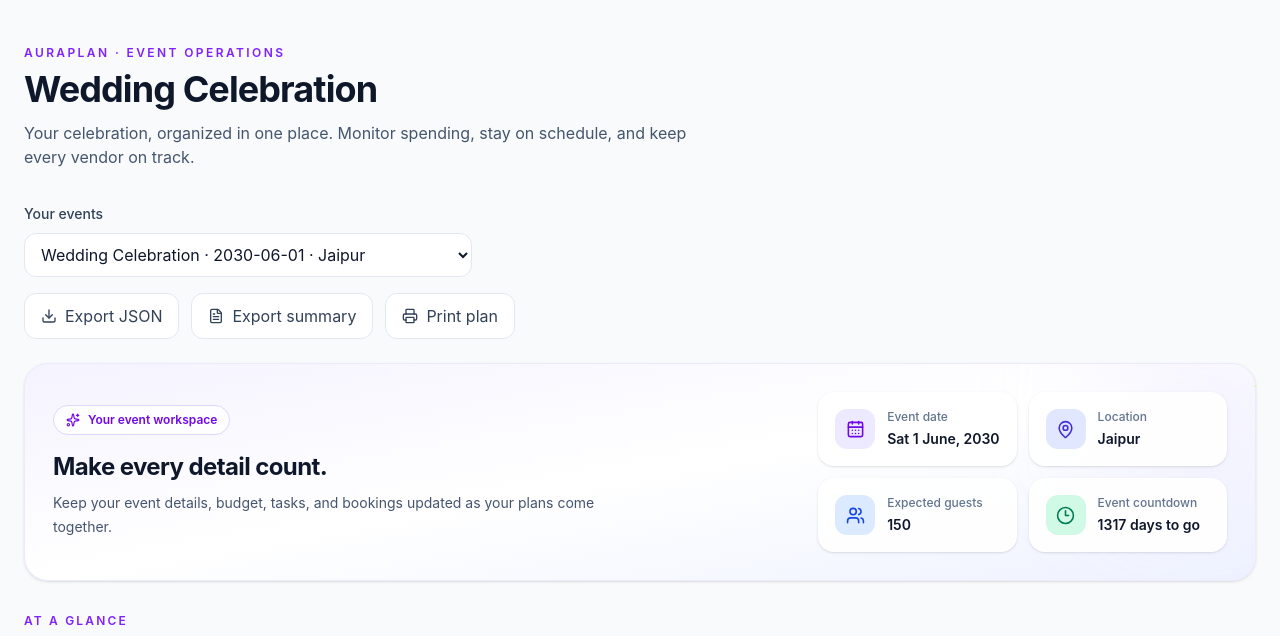
Scenario: OperationsPage › opens the requested event and switches between events
The image size is (1280, 636).
Expected: the heading "Wedding Celebration" is shown, x1=24 y1=67 x2=377 y2=111
Select "Birthday Celebration · 2030-06-01 · Jaipur" in the dropdown labelled "Your events" at [248, 255], box x1=24 y1=233 x2=472 y2=277
(page scrolled)
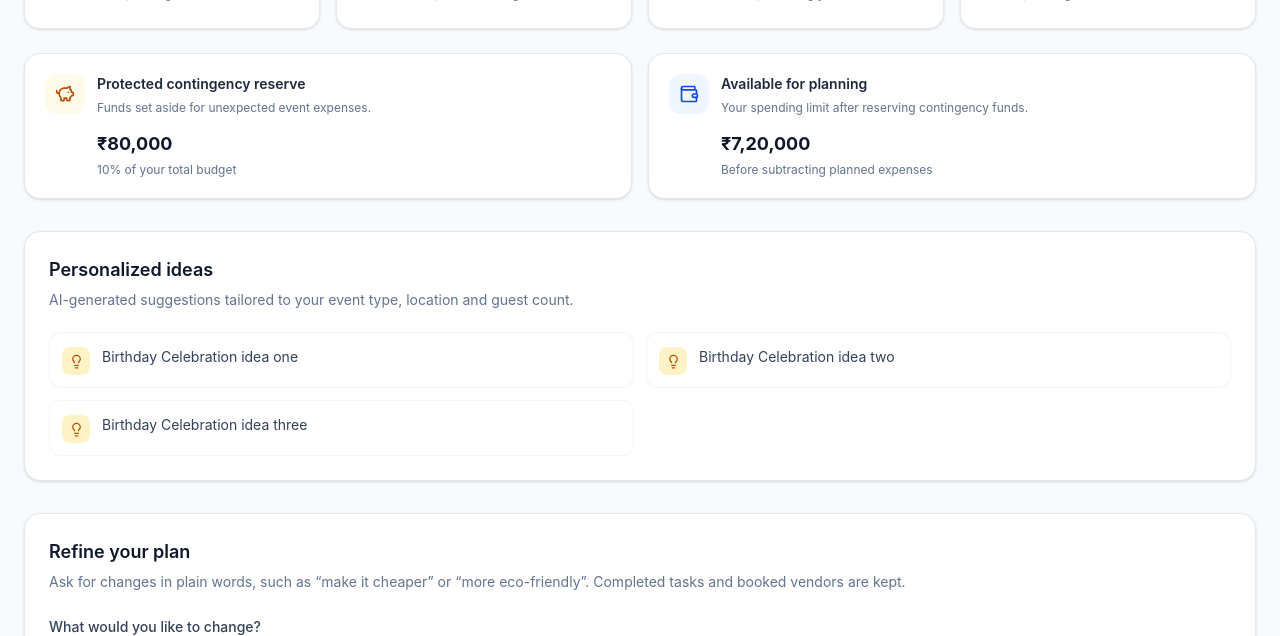
Expected: the text "Birthday Celebration idea one" is shown, x1=102 y1=345 x2=298 y2=369
